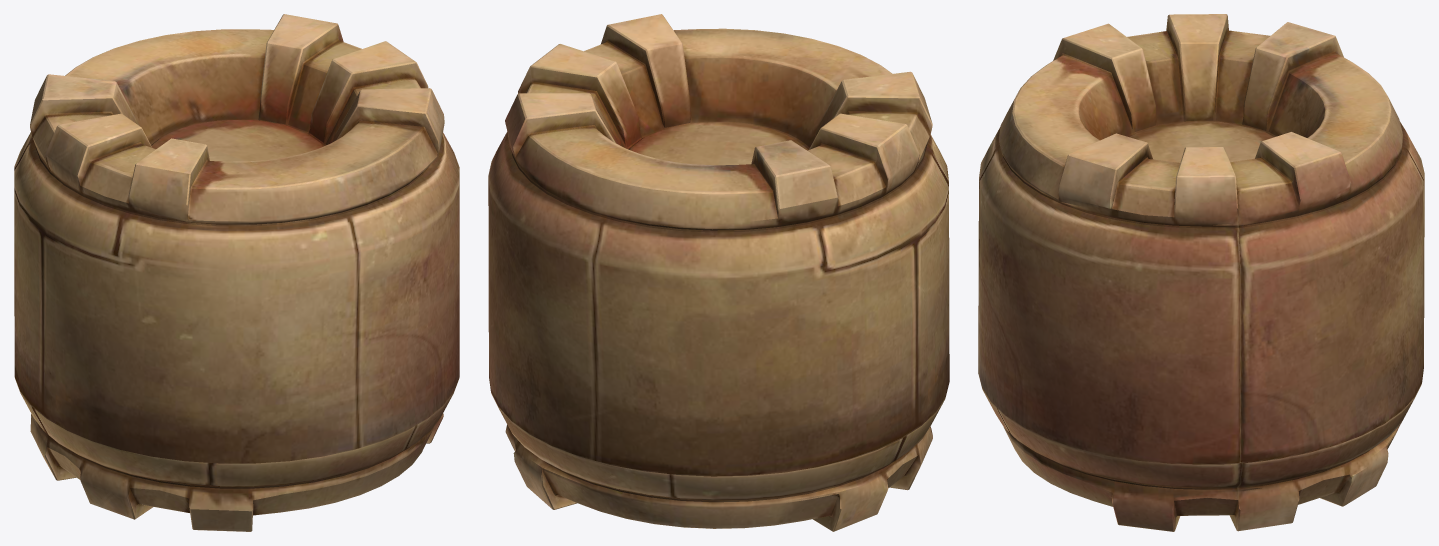
Rendered from Pipe04.fbx.
3 views of the same model, side by side, from view 1: azimuth 30°, elevation 25°; view 2: azimuth 150°, elevation 25°; view 3: azimuth 270°, elevation 25° (orthographic). The views are drawn at different scales.
Parts seen in each view (by area): view 1: Pipe4_LOD00; view 2: Pipe4_LOD00; view 3: Pipe4_LOD00.
Boxes of the visible parts, box(x1,y1,x2,y2) form: Pipe4_LOD00: box(14, 14, 459, 531); Pipe4_LOD00: box(488, 14, 949, 531); Pipe4_LOD00: box(978, 14, 1424, 531).
Size of what is drawn, in the model's own units: 755 by 666 by 755.
